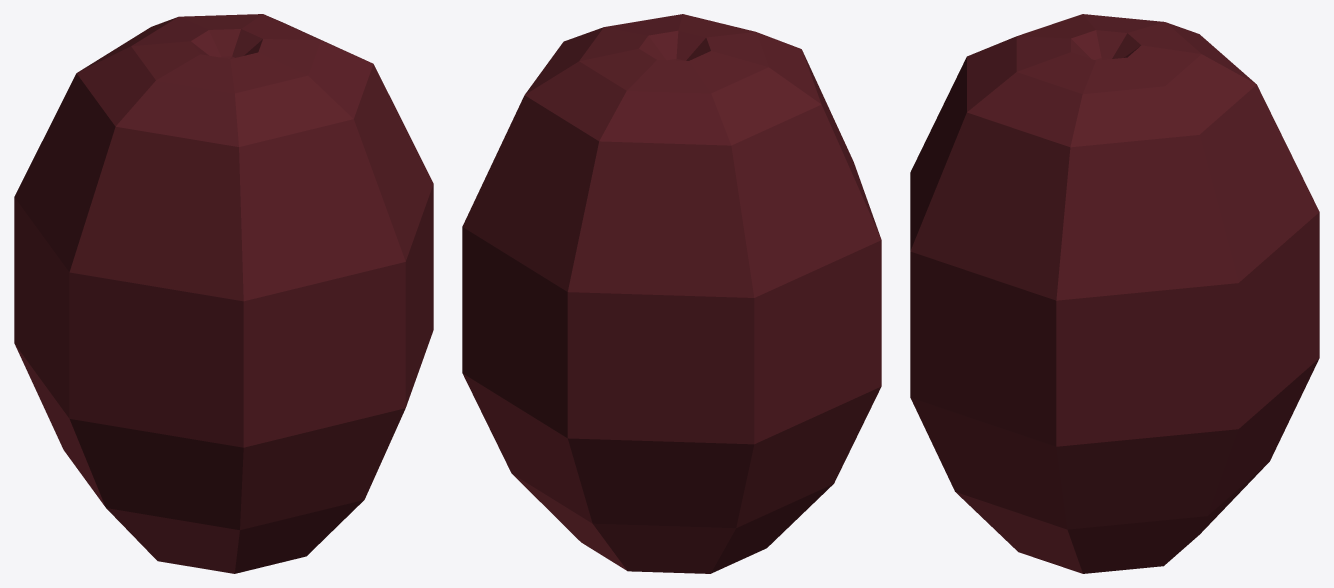
Rendered from grape.fbx.
The picture shows the model from 3 angles, left to right: view 1: azimuth 30°, elevation 25°; view 2: azimuth 150°, elevation 25°; view 3: azimuth 270°, elevation 25°; orthographic projection.
Parts seen in each view (by area): view 1: 円.001; view 2: 円.001; view 3: 円.001.
Boxes of the visible parts, box(x1,y1,x2,y2) form: 円.001: box(14, 14, 433, 573); 円.001: box(462, 14, 881, 573); 円.001: box(910, 14, 1319, 573).
Bounding box in the file's own units: 4.87 × 6.44 × 4.75.
